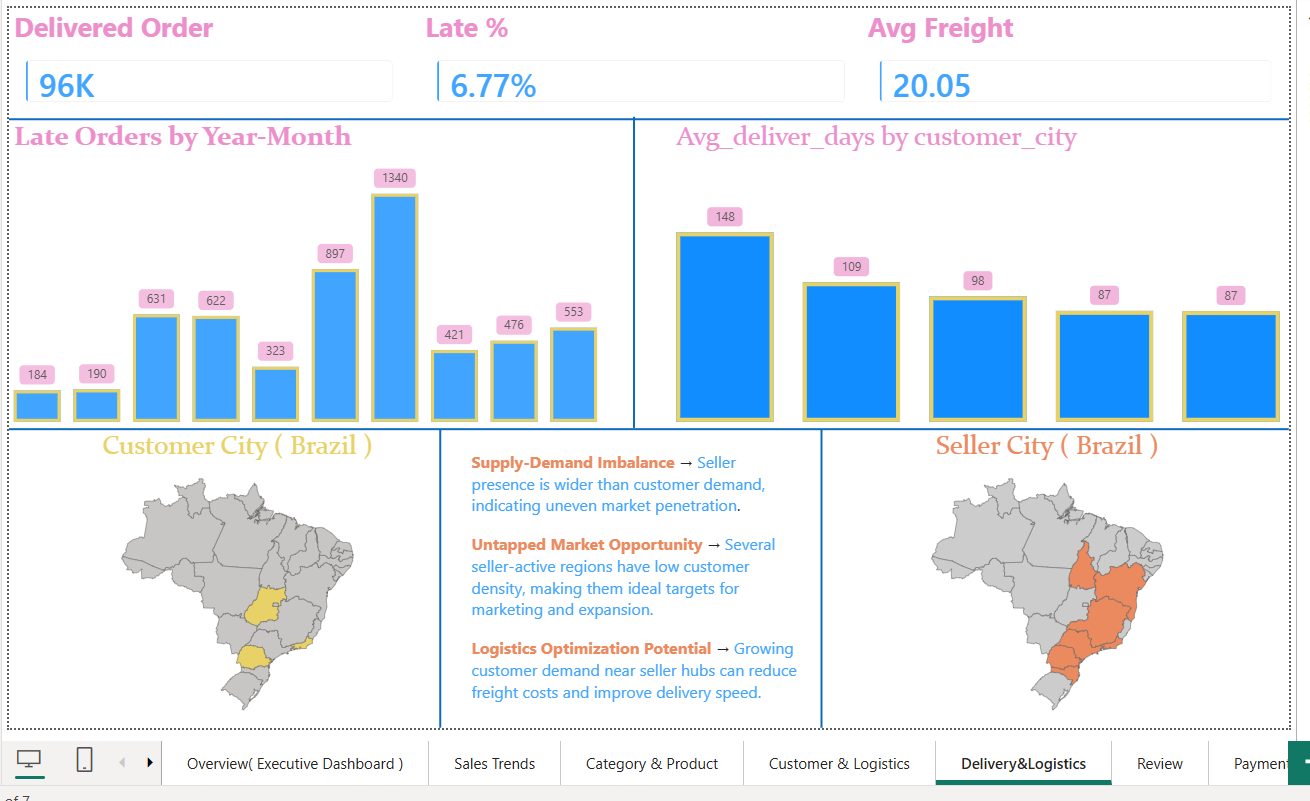

The dashboard page shown, as its layout file describes it:
{"tool":"powerbi","page":{"name":"Delivery&Logistics","canvas":[1280,720],"ordinal":4},"visuals":[{"type":"cardVisual","title":"Delivered Order","fields":{"Data":["public bi_fact_sales.Delivered Orders"]},"box":[0,0,401.4,111.6],"z":0},{"type":"cardVisual","title":"Late %","fields":{"Data":["public bi_fact_sales.Late %"]},"box":[411.6,0,442,111.6],"z":1000},{"type":"cardVisual","title":"Avg Freight","fields":{"Data":["public bi_fact_sales.Avgfreightvalue"]},"box":[853.6,0,426.1,111.6],"z":2000},{"type":"clusteredColumnChart","fields":{"Y":["public bi_fact_sales.Late Orders"],"Category":["DimDate.Year-Month"]},"box":[0,111.6,594.2,308.7],"z":3000},{"type":"shapeMap","title":"Customer City ( Brazil ) ","fields":{"Category":["public bi_fact_sales.customer_city"]},"box":[0,420,457.1,300],"z":4000},{"type":"shapeMap","title":"Seller City ( Brazil ) ","fields":{"Category":["public bi_fact_sales.seller_city"]},"box":[795.7,420,484.3,300],"z":5000},{"type":"clusteredColumnChart","fields":{"Y":["public bi_fact_sales.Avg_deliver_days"],"Category":["public bi_fact_sales.customer_city"]},"box":[662.3,111.6,617.4,308.7],"z":6000},{"type":"textbox","box":[457.1,420,338.6,300],"z":7000},{"type":"shape","box":[0,15.7,1280,190],"z":8000},{"type":"shape","box":[0,326.1,1279.7,189.9],"z":9000},{"type":"shape","box":[475.4,108.7,300,311.6],"z":10000},{"type":"shape","box":[281.2,421.7,300,298.6],"z":11000},{"type":"shape","box":[662.3,421.7,300,298.6],"z":12000}]}

Visuals, with their boxes on the page's 1280x720 design canvas (x1, y1, x2, y2). These are canvas units, not pixel positions in the 1310x801 screenshot, which may show the page scaled, cropped or inside an application window:
"Delivered Order" cardVisual: <box>0,0,401,112</box>
"Late %" cardVisual: <box>412,0,854,112</box>
"Avg Freight" cardVisual: <box>854,0,1280,112</box>
clusteredColumnChart - public bi_fact_sales.Late Orders x DimDate.Year-Month: <box>0,112,594,420</box>
"Customer City ( Brazil ) " shapeMap: <box>0,420,457,720</box>
"Seller City ( Brazil ) " shapeMap: <box>796,420,1280,720</box>
clusteredColumnChart - public bi_fact_sales.Avg_deliver_days x public bi_fact_sales.customer_city: <box>662,112,1280,420</box>
textbox: <box>457,420,796,720</box>
shape: <box>0,16,1280,206</box>
shape: <box>0,326,1280,516</box>
shape: <box>475,109,775,420</box>
shape: <box>281,422,581,720</box>
shape: <box>662,422,962,720</box>
